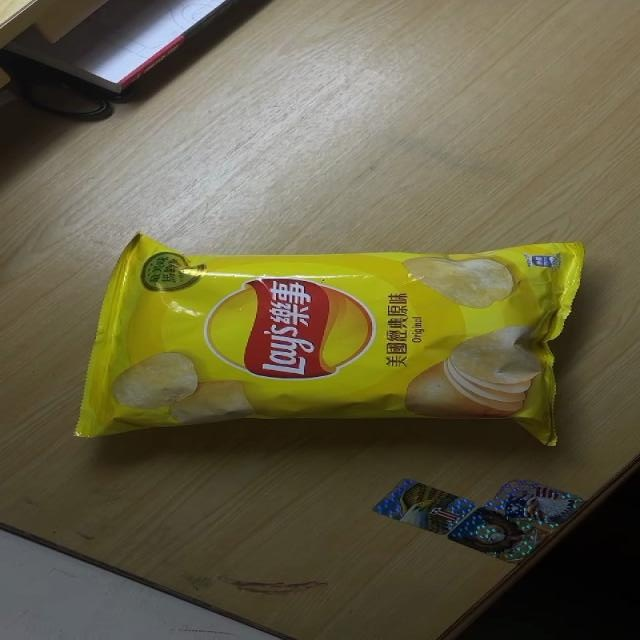Lay-s-original: (76, 231, 585, 448)
